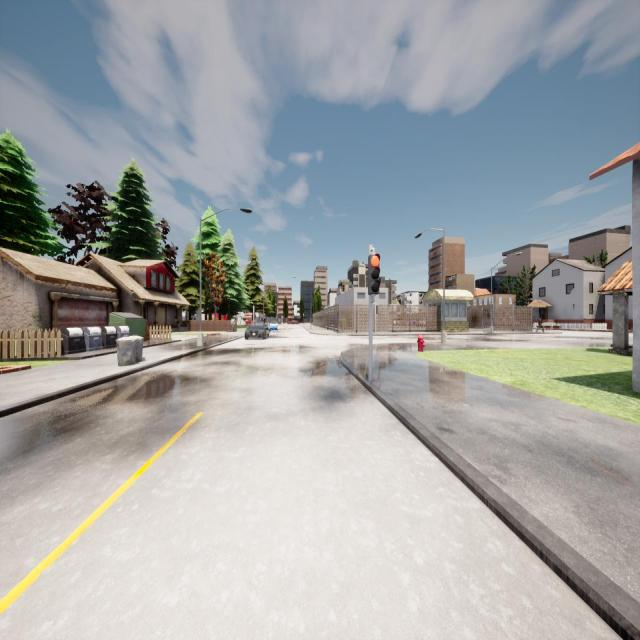Pedestrian: (536, 314, 544, 335), (231, 316, 235, 332)
Vehicle: (245, 321, 268, 339), (270, 323, 278, 331)
traffic_light: (368, 255, 380, 294), (376, 305, 379, 314)
